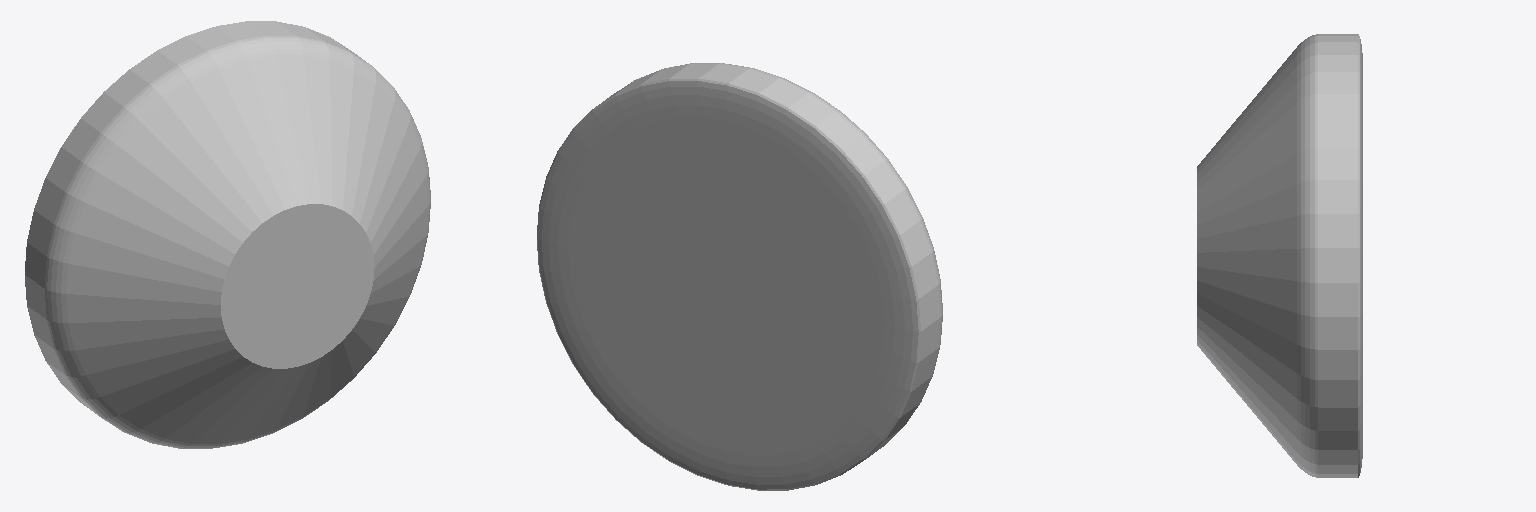
Rendered from thruster.obj.
The picture shows the model from 3 angles: view 1: azimuth 30°, elevation 25°; view 2: azimuth 150°, elevation 25°; view 3: azimuth 270°, elevation 25°; orthographic projection.
Parts seen in each view (by area): view 1: Cube; view 2: Cube; view 3: Cube.
Boxes of the visible parts, <box> form: Cube: <box>25,21,430,448</box>; Cube: <box>537,63,942,490</box>; Cube: <box>1197,34,1362,477</box>.
Bounding box in the file's own units: 0.8 × 0.8 × 0.3.